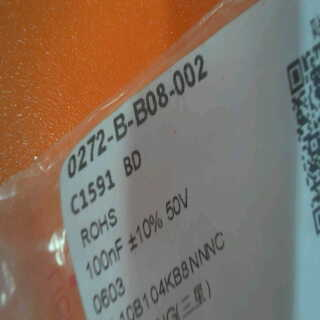100nF: (76, 231, 127, 279)
